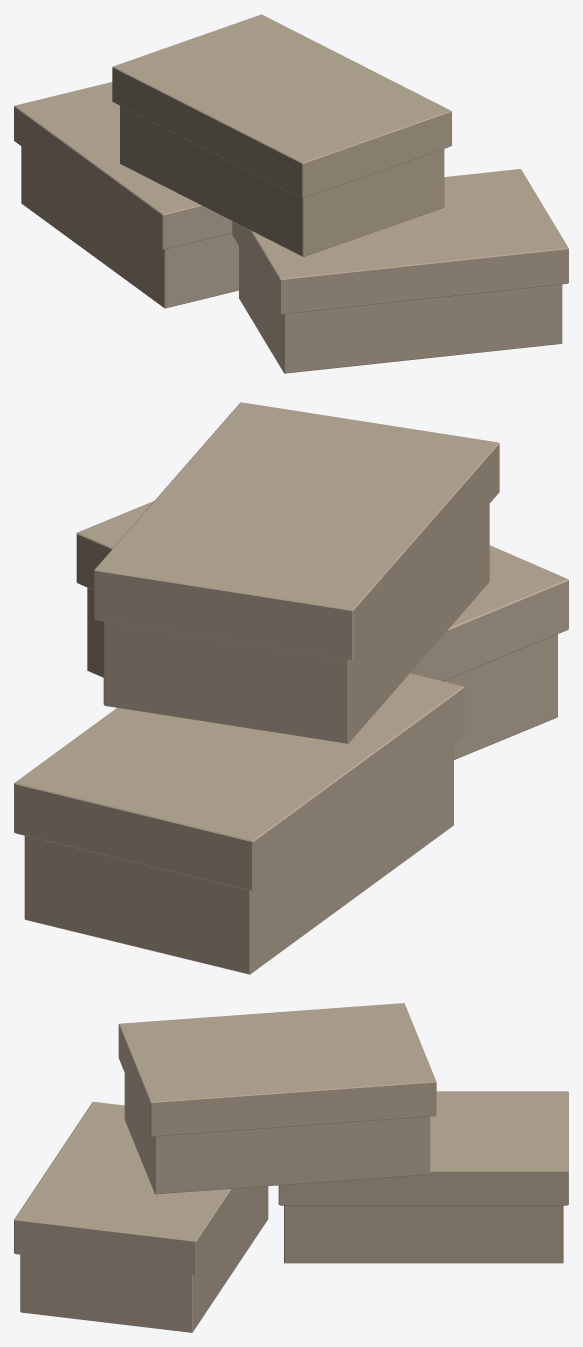
Rendered from boxes.glb.
3 views of the same model, one above another, from view 1: azimuth 30°, elevation 25°; view 2: azimuth 150°, elevation 25°; view 3: azimuth 270°, elevation 25° (orthographic). The views are drawn at different scales.
Parts seen in each view (by area): view 1: Boxes; view 2: Boxes; view 3: Boxes.
Boxes of the visible parts, x1=… form: Boxes: x1=14, y1=14, x2=568, y2=373; Boxes: x1=14, y1=402, x2=568, y2=974; Boxes: x1=14, y1=1003, x2=568, y2=1332.
Bounding box in the file's own units: 0.4658 × 0.2746 × 0.7278.
1 material, 1 textured.
